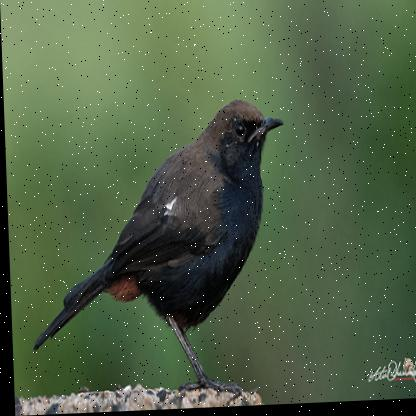Burung: (23, 100, 290, 402)
